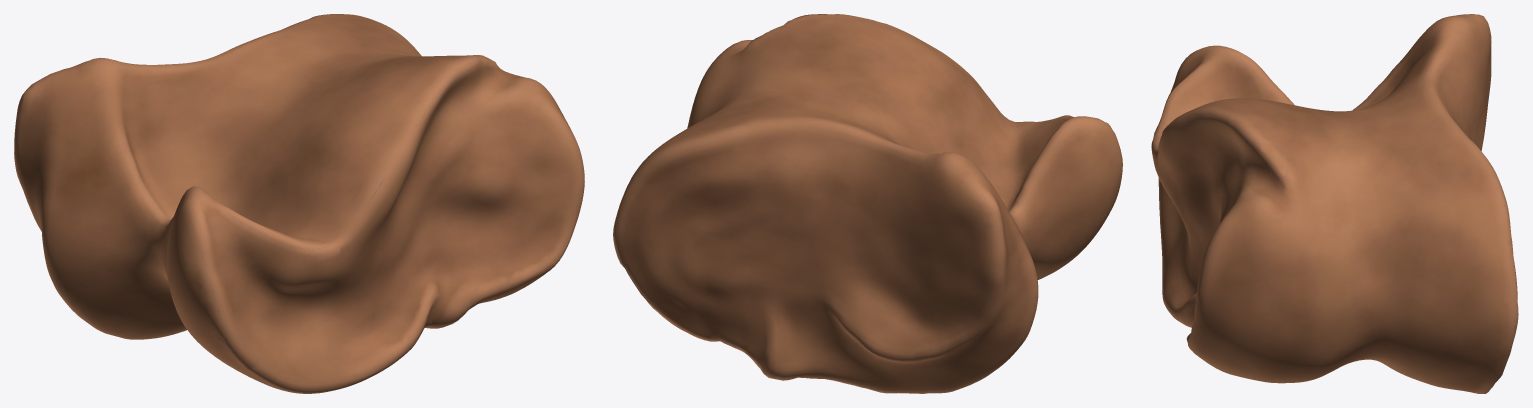
Rendered from Assyq.gltf.
3 views of the same model, side by side, from view 1: azimuth 30°, elevation 25°; view 2: azimuth 150°, elevation 25°; view 3: azimuth 270°, elevation 25° (orthographic). The views are drawn at different scales.
Visible parts, largest first — view 1: Assyq; view 2: Assyq; view 3: Assyq.
Boxes of the visible parts, left/top/right/bottom form: Assyq: left=14, top=14, right=584, bottom=393; Assyq: left=613, top=14, right=1122, bottom=393; Assyq: left=1151, top=14, right=1518, bottom=393.
Size of the model in its own units: 0.0734 by 0.0472 by 0.054.
